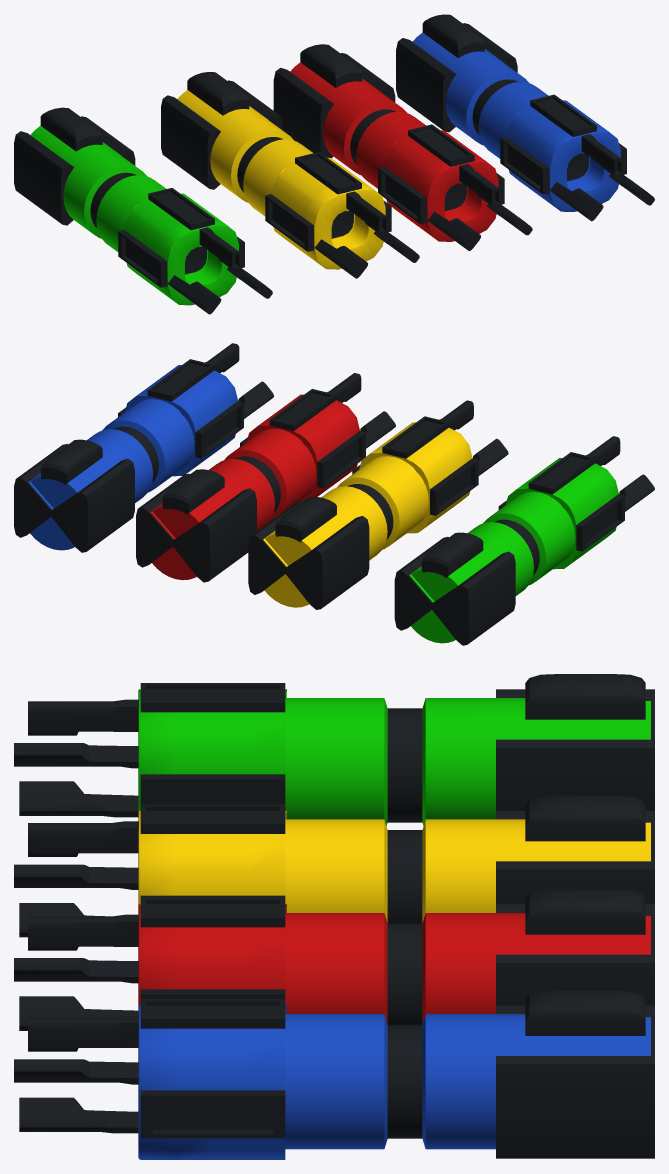
The model's file is PlasmaGunLevel1.fbx.
3 views of the same model, one above another, from view 1: azimuth 30°, elevation 25°; view 2: azimuth 150°, elevation 25°; view 3: azimuth 270°, elevation 25° (orthographic). The views are drawn at different scales.
Visible parts, largest first — view 1: PlasmaGunLevel1Blue, PlasmaGunLevel1Green, PlasmaGunLevel1Yellow, PlasmaGunLevel1Red; view 2: PlasmaGunLevel1Green, PlasmaGunLevel1Yellow, PlasmaGunLevel1Blue, PlasmaGunLevel1Red; view 3: PlasmaGunLevel1Blue, PlasmaGunLevel1Green, PlasmaGunLevel1Red, PlasmaGunLevel1Yellow.
Part boxes in pixels (x1=…): PlasmaGunLevel1Blue: x1=396, y1=14, x2=654, y2=221; PlasmaGunLevel1Green: x1=14, y1=107, x2=272, y2=314; PlasmaGunLevel1Yellow: x1=161, y1=72, x2=419, y2=278; PlasmaGunLevel1Red: x1=273, y1=44, x2=532, y2=250; PlasmaGunLevel1Green: x1=394, y1=436, x2=654, y2=645; PlasmaGunLevel1Yellow: x1=248, y1=400, x2=508, y2=609; PlasmaGunLevel1Blue: x1=14, y1=343, x2=273, y2=552; PlasmaGunLevel1Red: x1=136, y1=373, x2=395, y2=582; PlasmaGunLevel1Blue: x1=14, y1=990, x2=654, y2=1159; PlasmaGunLevel1Green: x1=14, y1=674, x2=654, y2=825; PlasmaGunLevel1Red: x1=14, y1=889, x2=654, y2=1030; PlasmaGunLevel1Yellow: x1=14, y1=795, x2=654, y2=937.
Size of the model in its own units: 390 by 71.06 by 274.
